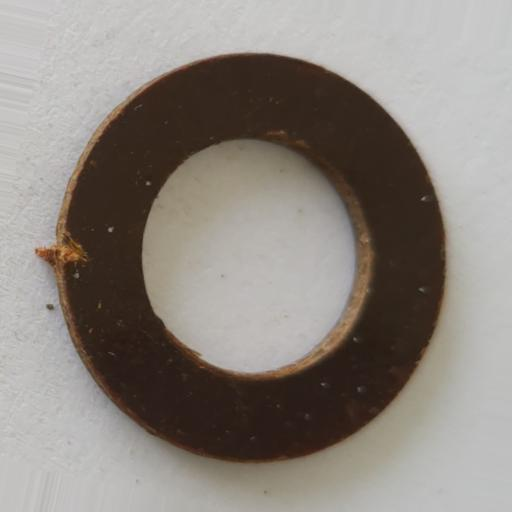defect: (35, 232, 93, 273)
